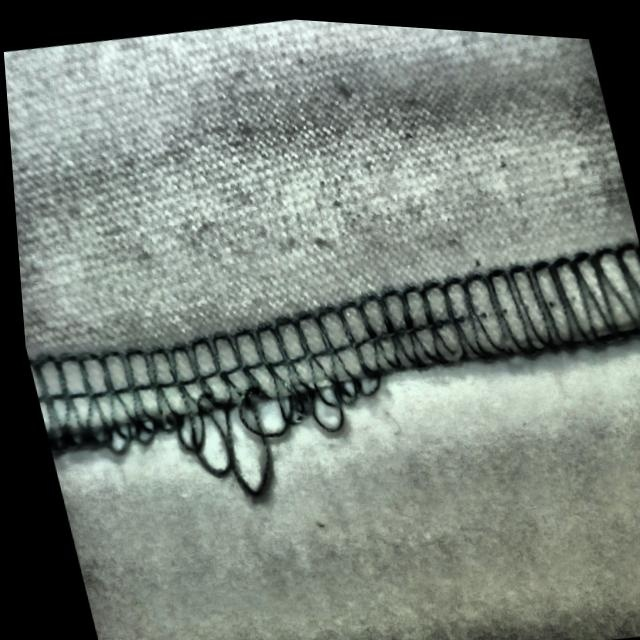Stitch: (26, 263, 417, 550)
